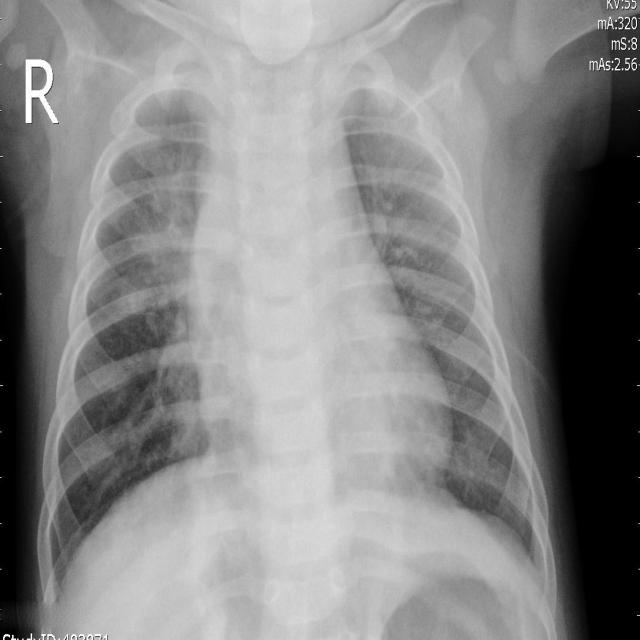low-pneumonia: (131, 135, 200, 305), (147, 324, 206, 465), (364, 90, 422, 228)
